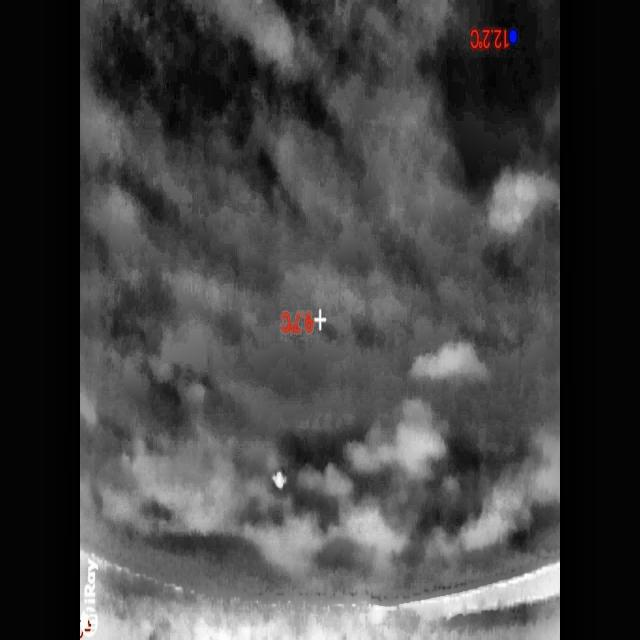drone: (270, 464, 289, 494)
